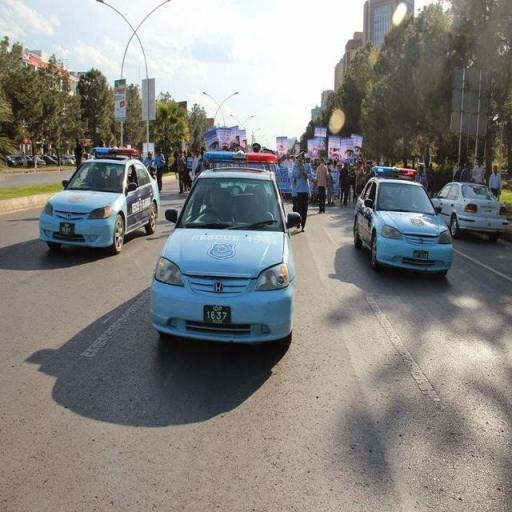Ambulance: (148, 146, 302, 352), (39, 144, 159, 256), (350, 164, 456, 277)
